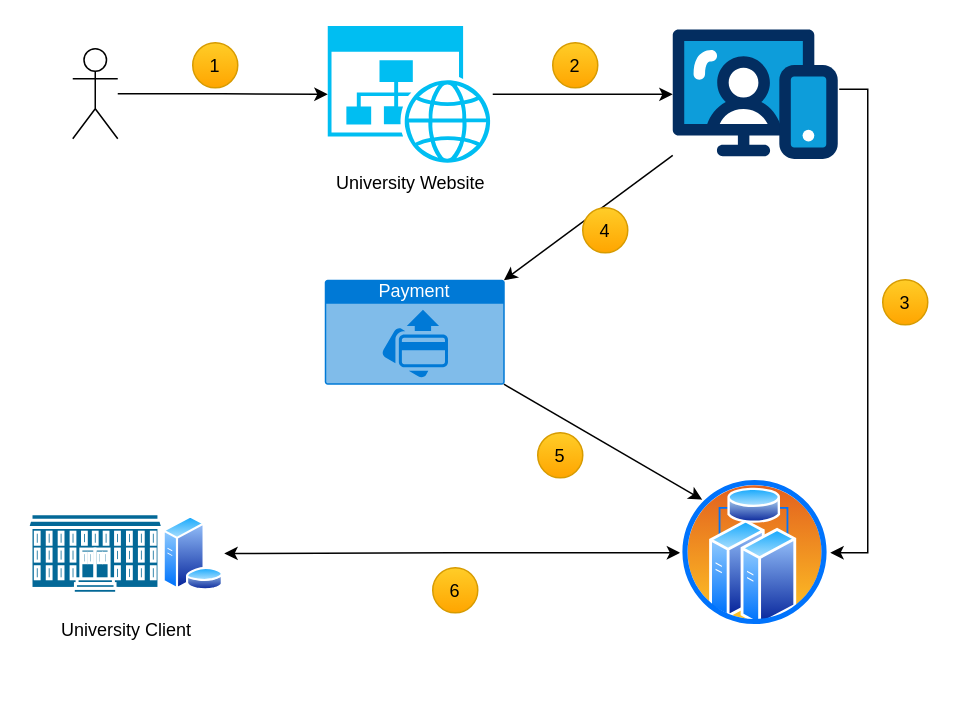
Image size: 954x713. Some labels were removed from this diagram. The centre of each missing label's shape, as x and y in pixels:
BGV Company Employee: pixel 94 93
Certcheck Main Server: pixel 755 552
Certcheck Portal: pixel 754 93
